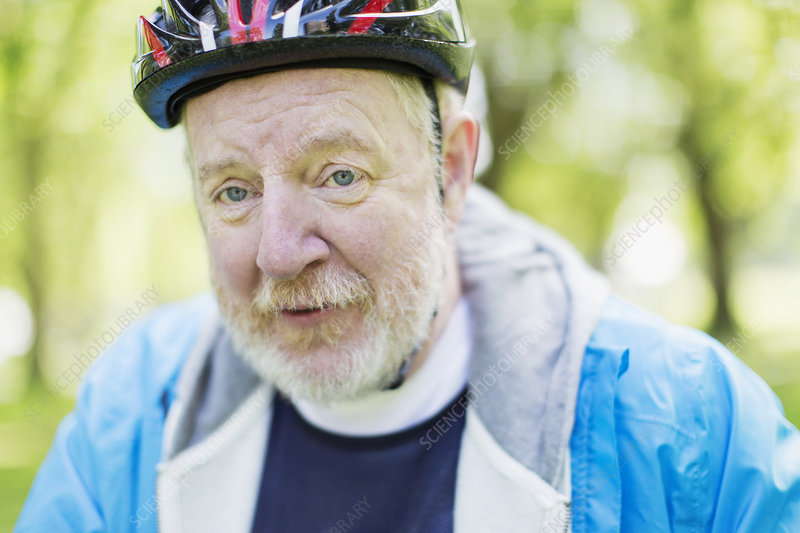helmet: (132, 1, 474, 409)
